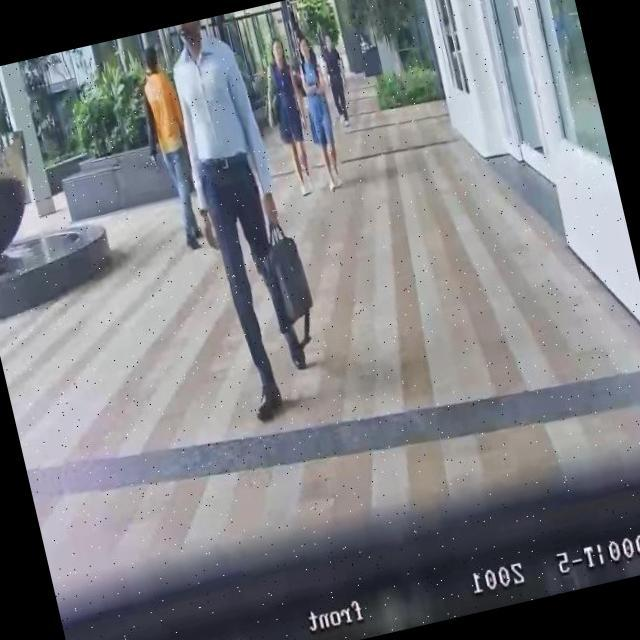person: (157, 11, 326, 423), (125, 41, 212, 256), (251, 35, 320, 200), (288, 31, 349, 192), (316, 30, 356, 126)
